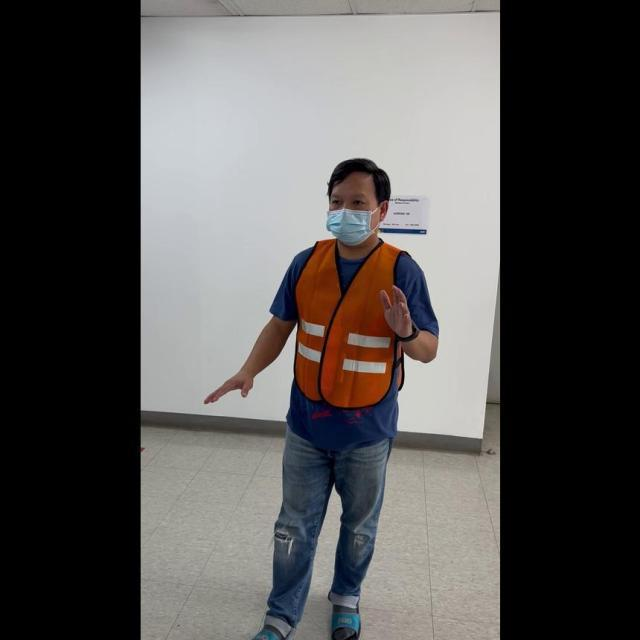bare_hand: (377, 281, 413, 341), (202, 366, 253, 405)
